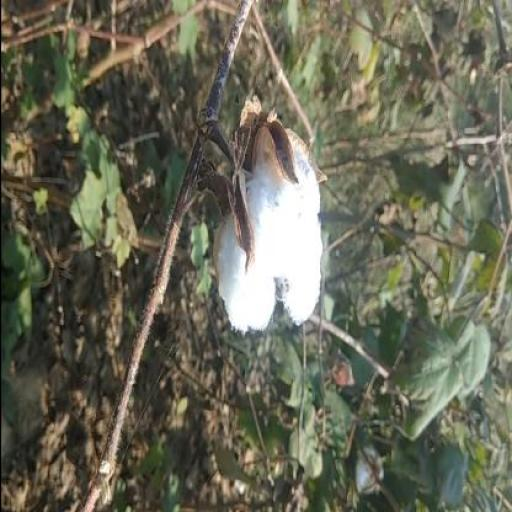cotton_ready: (173, 110, 341, 326)
